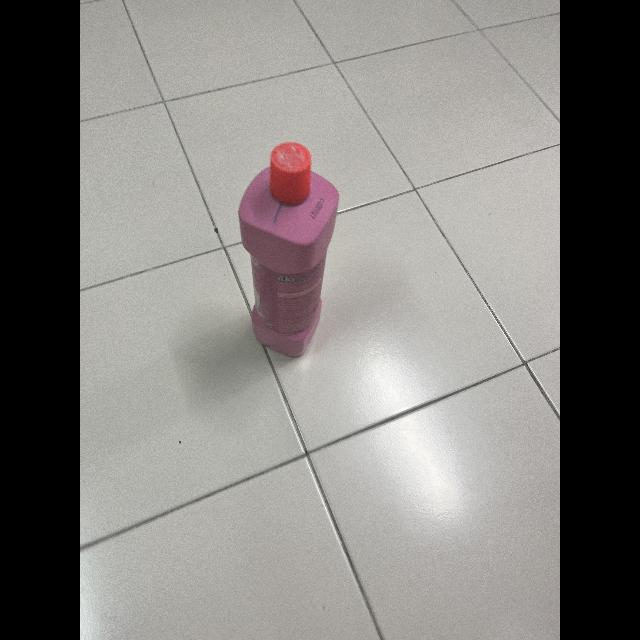chemical_plastic_bottle: (236, 138, 344, 356)
